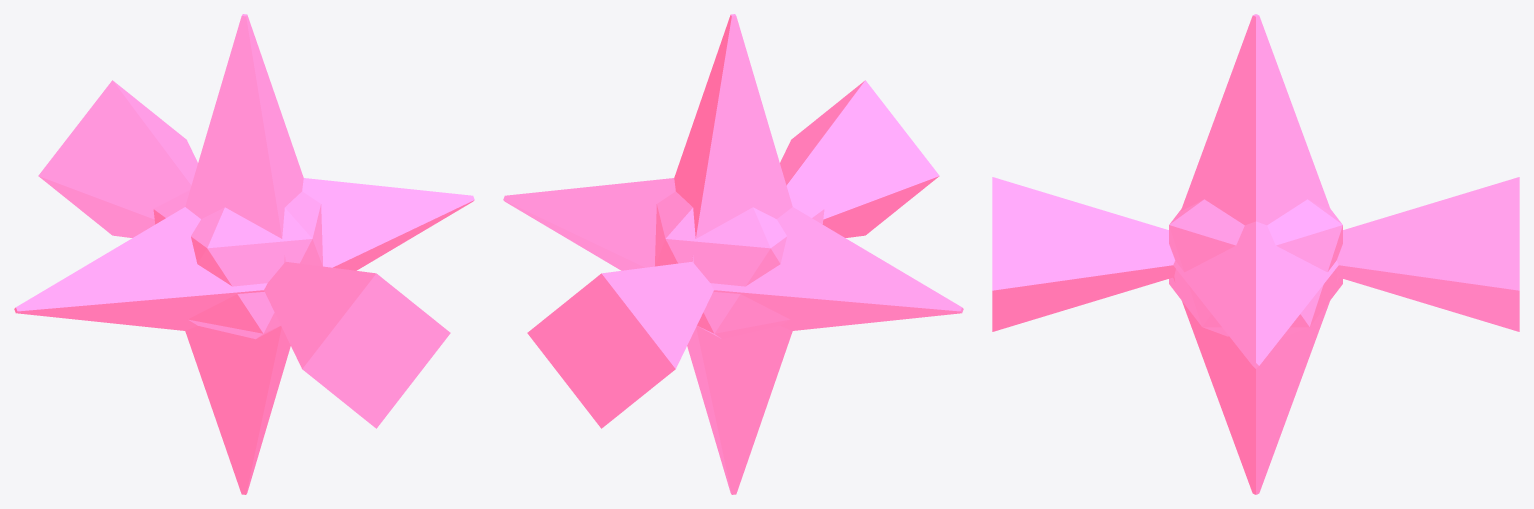
The model's file is item-singularite.glb.
3 renders of one model, left to right at view 1: azimuth 30°, elevation 25°; view 2: azimuth 150°, elevation 25°; view 3: azimuth 270°, elevation 25°, orthographic.
Parts seen in each view (by area): view 1: item-singularite; view 2: item-singularite; view 3: item-singularite.
Part boxes in pixels (x1,y1,x2,y2): item-singularite: [14, 14, 474, 494]; item-singularite: [503, 14, 963, 494]; item-singularite: [992, 14, 1519, 494].
Bounding box in the file's own units: 0.32 × 0.32 × 0.32.
